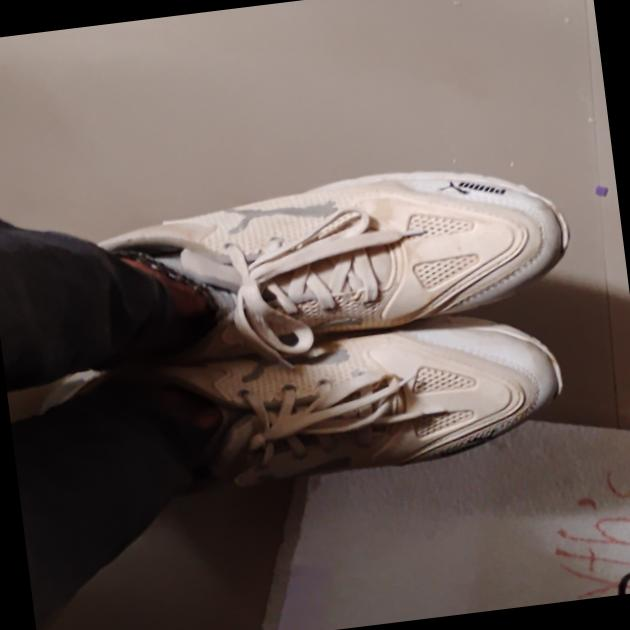shoes: (0, 128, 624, 630)
